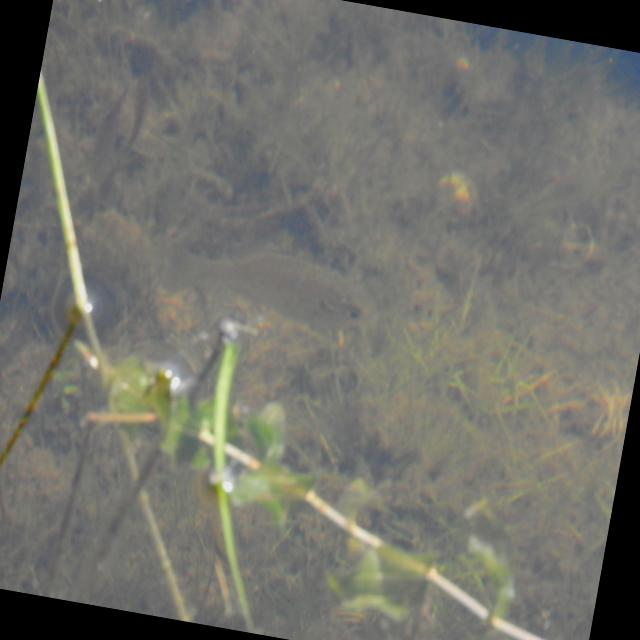Gunes Levregi: (144, 241, 383, 340)
